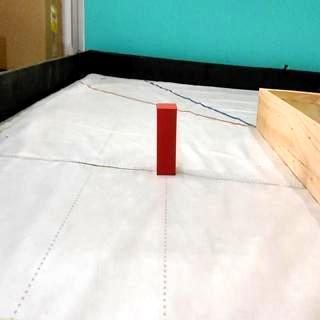redbox: (156, 104, 178, 176)
